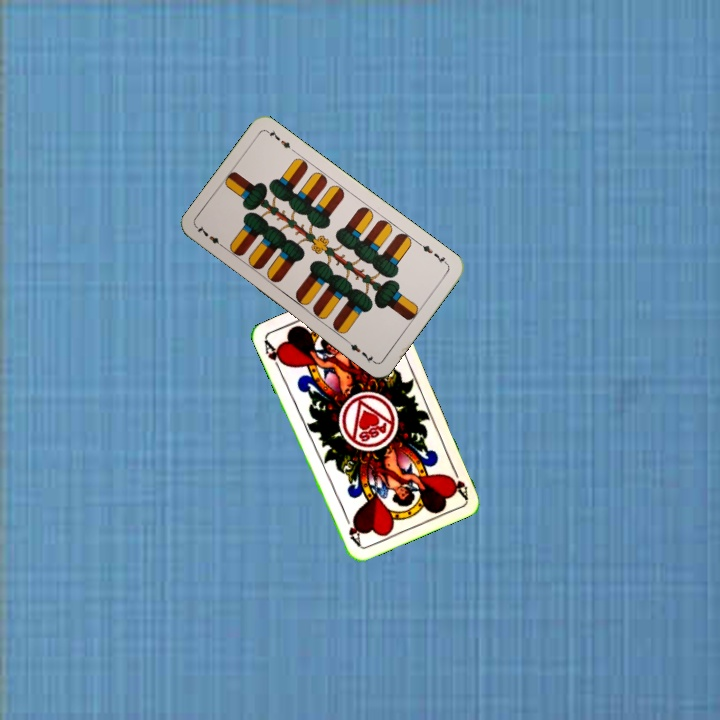E7: (193, 222, 228, 252), (415, 239, 451, 268)
HA: (260, 336, 287, 375), (446, 461, 471, 501)
